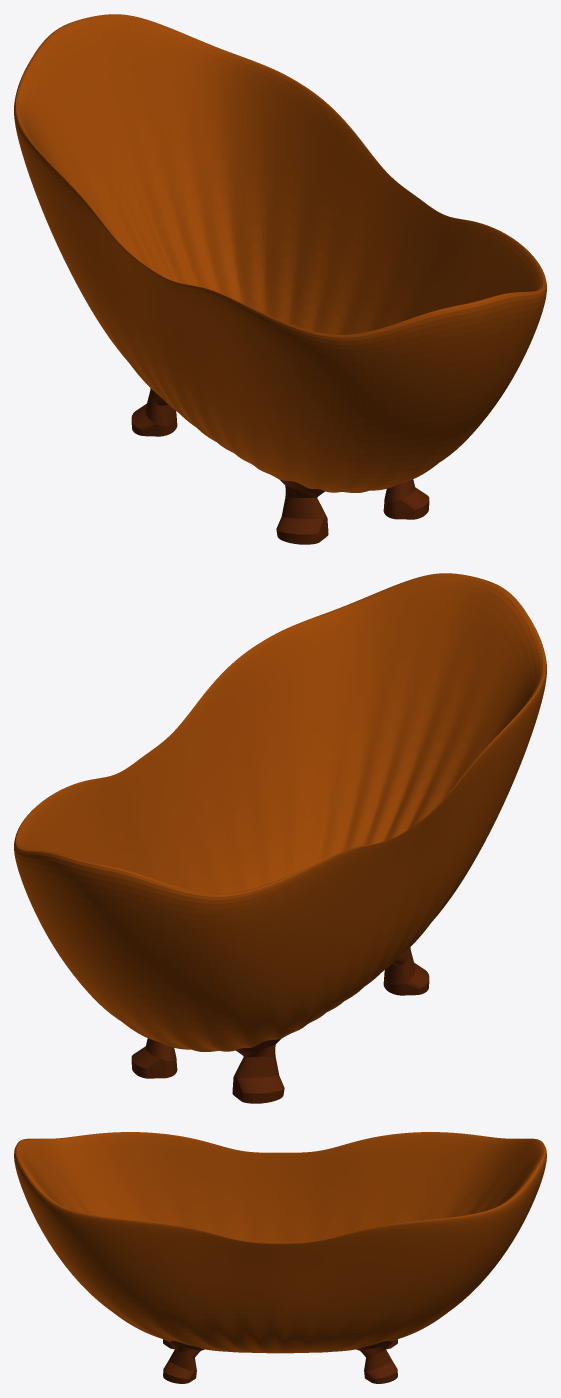
The model's file is Wanna.fbx.
The picture shows the model from 3 angles, top to bottom: view 1: azimuth 30°, elevation 25°; view 2: azimuth 150°, elevation 25°; view 3: azimuth 270°, elevation 25°; orthographic projection. The views are drawn at different scales.
Visible parts, largest first — view 1: Wanna, Walec; view 2: Wanna, Walec; view 3: Wanna, Walec.
Boxes of the visible parts, x1,y1,x2,y2 form: Wanna: (14,14,546,492); Walec: (131,388,429,544); Wanna: (14,573,546,1051); Walec: (131,947,429,1103); Wanna: (14,1132,546,1353); Walec: (163,1339,397,1383).
Size of the model in its own units: 306 by 329 by 758.
